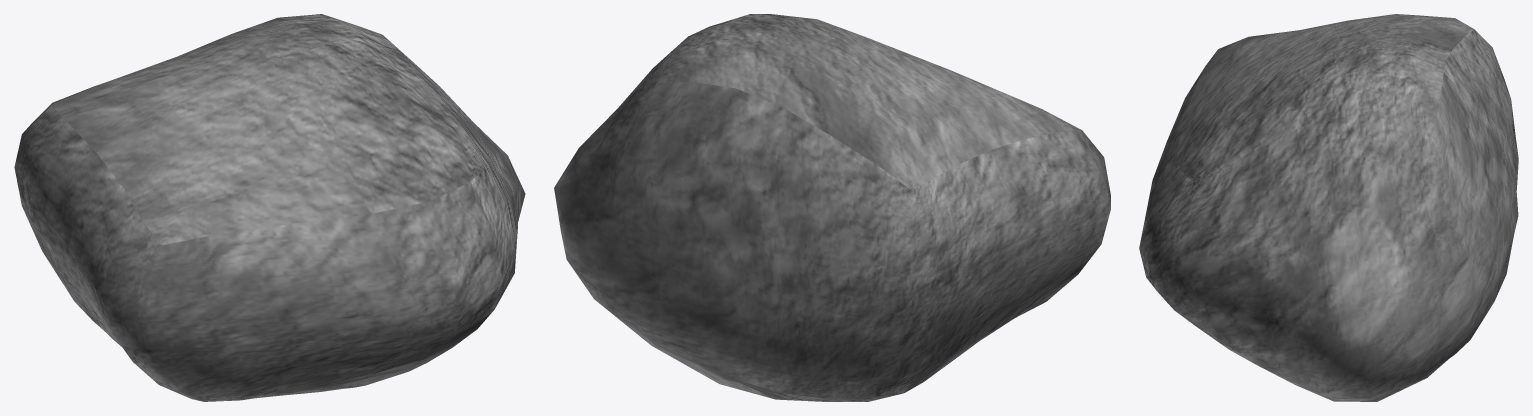
Rendered from small.fbx.
The picture shows the model from 3 angles, left to right: view 1: azimuth 30°, elevation 25°; view 2: azimuth 150°, elevation 25°; view 3: azimuth 270°, elevation 25°; orthographic projection. The views are drawn at different scales.
Visible parts, largest first — view 1: small; view 2: small; view 3: small.
Part boxes in pixels (<box>): small: <box>14,14,525,401</box>; small: <box>554,14,1110,401</box>; small: <box>1139,14,1518,401</box>.
Size of the model in its own units: 210 by 148 by 157.
